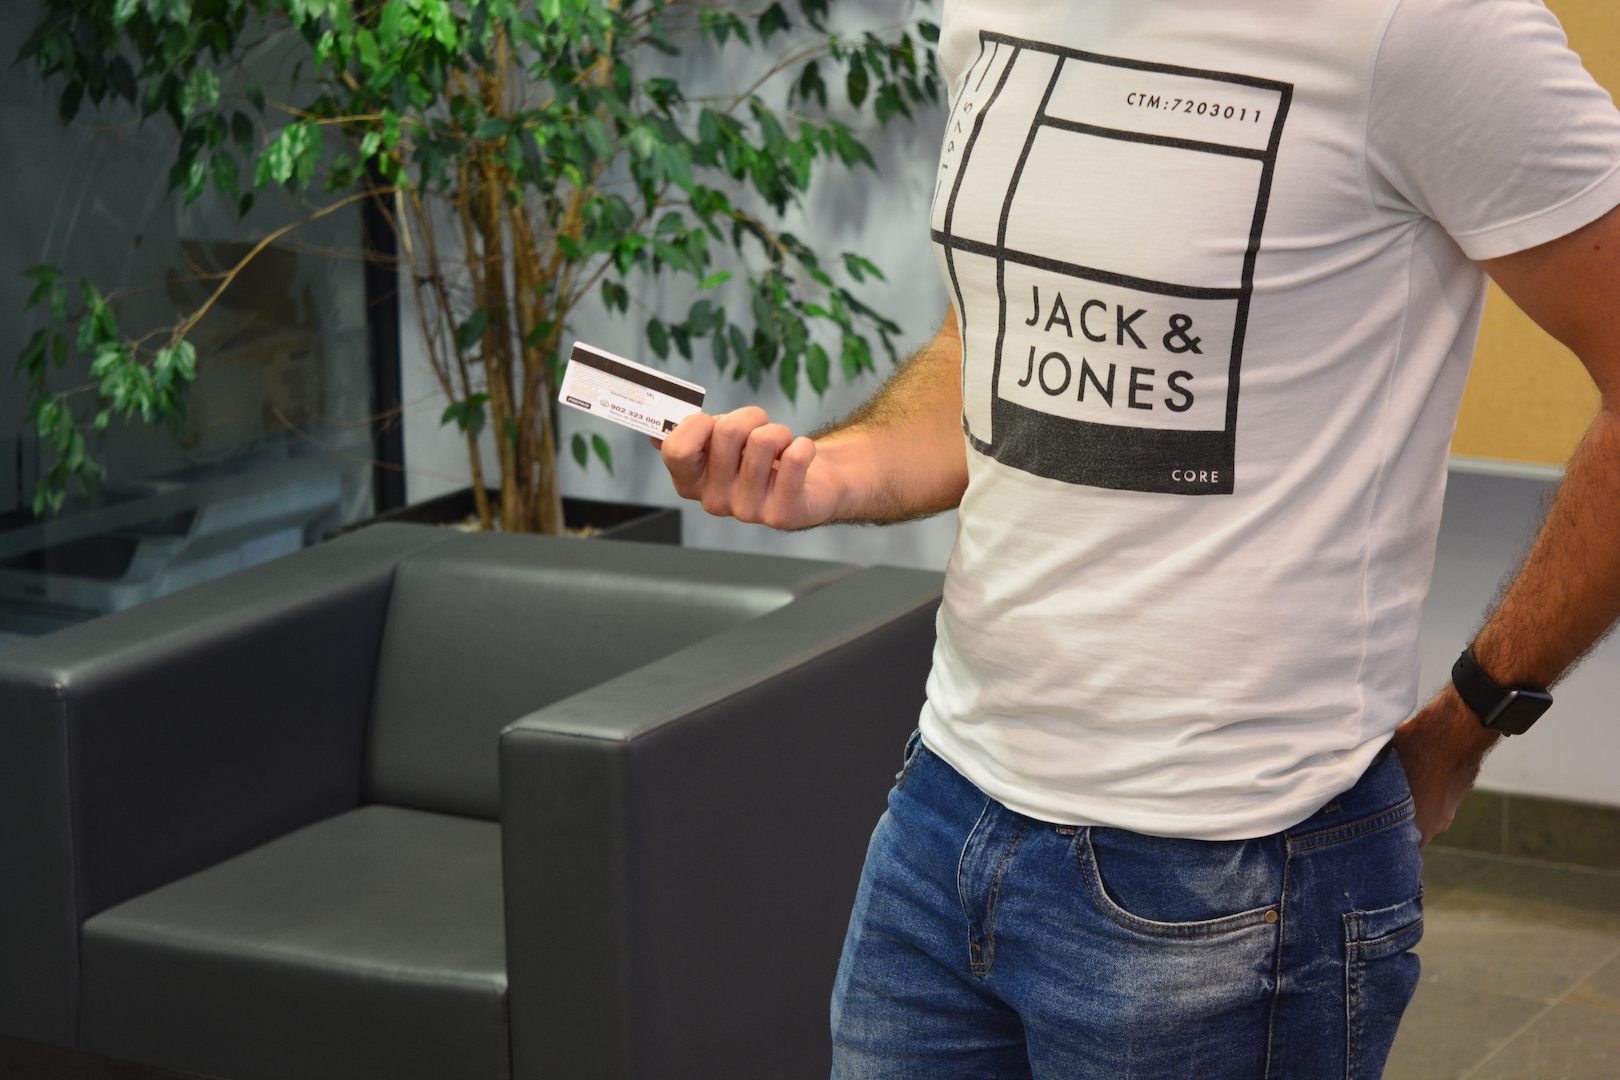tarjeta: (553, 337, 708, 448)
